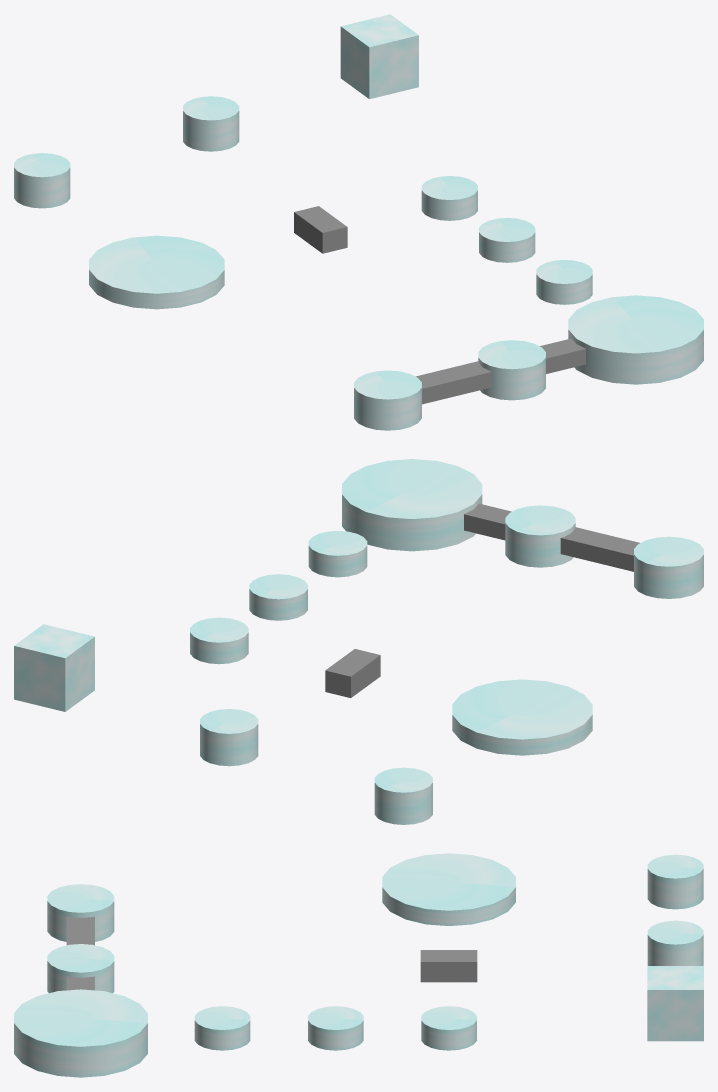
The model's file is Stage02Ground.fbx.
3 views of the same model, one above another, from view 1: azimuth 30°, elevation 25°; view 2: azimuth 150°, elevation 25°; view 3: azimuth 270°, elevation 25° (orthographic). The views are drawn at different scales.
Visible parts, largest first — view 1: ashibaO, ashibaO004, Box007, ashibaO001, ashibaO002, ashibaO007, ashibaO008, ashibaO003, ashibaO005, ashibaO006, Box001, Box003 (+1 smaller); view 2: ashibaO, ashibaO004, Box007, ashibaO001, ashibaO002, ashibaO007, ashibaO008, ashibaO003, ashibaO005, ashibaO006, Box001, Box003 (+1 smaller); view 3: ashibaO, ashibaO004, Box007, ashibaO001, ashibaO007, ashibaO002, ashibaO008, ashibaO003, ashibaO005, ashibaO006, Box003, Box001 (+1 smaller).
Part boxes in pixels (<box>): ashibaO: <box>568,295,703,384</box>; ashibaO004: <box>89,235,224,309</box>; Box007: <box>340,14,418,99</box>; ashibaO001: <box>354,370,421,430</box>; ashibaO002: <box>478,340,545,400</box>; ashibaO007: <box>14,153,70,208</box>; ashibaO008: <box>183,96,239,151</box>; ashibaO003: <box>536,260,592,304</box>; ashibaO005: <box>479,218,535,262</box>; ashibaO006: <box>421,176,477,220</box>; Box001: <box>415,361,492,404</box>; Box003: <box>294,206,347,253</box>; ashibaO: <box>342,459,482,551</box>; ashibaO004: <box>452,679,592,755</box>; Box007: <box>14,624,94,711</box>; ashibaO001: <box>634,536,703,598</box>; ashibaO002: <box>505,505,575,567</box>; ashibaO007: <box>374,767,432,824</box>; ashibaO008: <box>200,709,258,766</box>; ashibaO003: <box>308,531,367,577</box>; ashibaO005: <box>249,574,307,620</box>; ashibaO006: <box>190,617,248,664</box>; Box001: <box>560,527,639,571</box>; Box003: <box>325,649,380,697</box>; ashibaO: <box>14,989,147,1077</box>; ashibaO004: <box>382,853,515,925</box>; Box007: <box>647,966,703,1041</box>; ashibaO001: <box>47,884,114,941</box>; ashibaO007: <box>647,854,703,909</box>; ashibaO002: <box>47,944,114,993</box>; ashibaO008: <box>647,920,703,965</box>; ashibaO003: <box>194,1006,250,1050</box>; ashibaO005: <box>308,1006,363,1050</box>; ashibaO006: <box>421,1006,476,1050</box>; Box003: <box>420,950,477,982</box>; Box001: <box>66,916,94,945</box>.
Bounding box in the file's own units: 4250 × 6091 × 900.
Materials: 2 (2 with a texture image).
